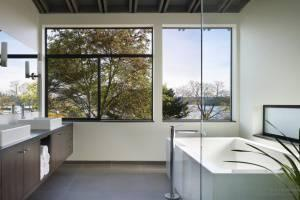window: (44, 28, 235, 123)
